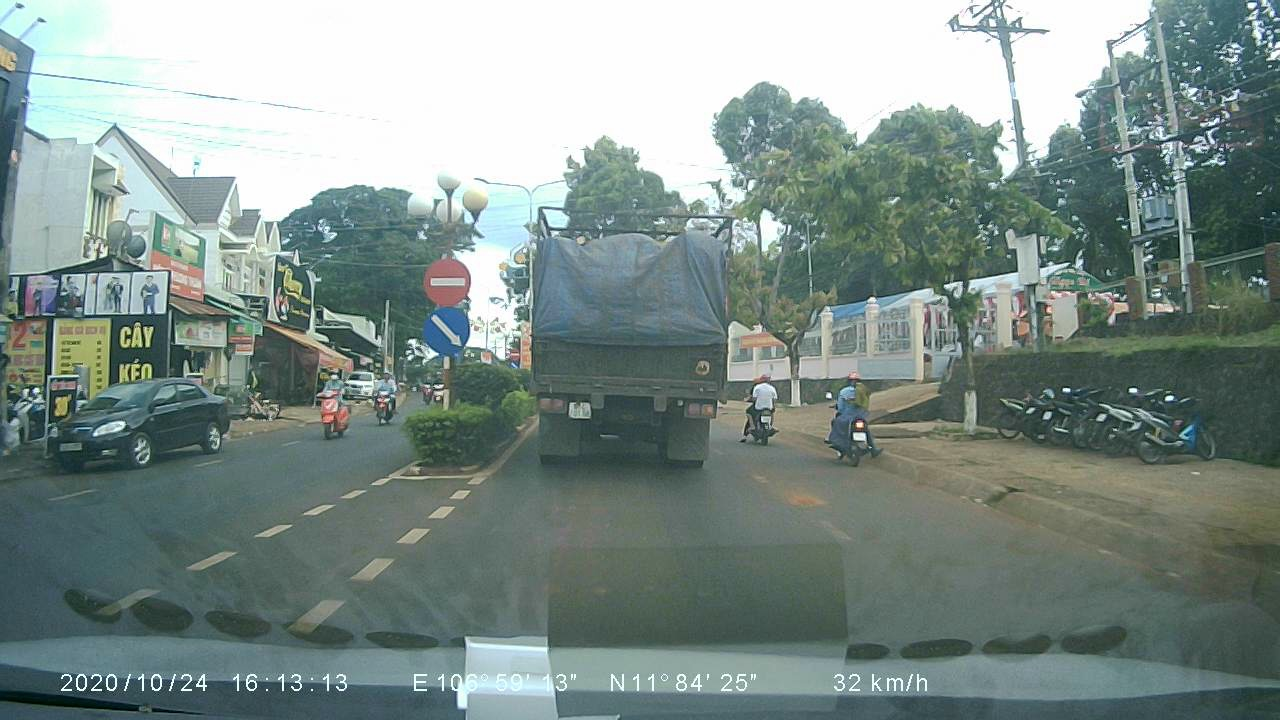Cam di nguoc chieu: (418, 255, 474, 308)
Huong di phai re phai: (419, 310, 474, 360)
